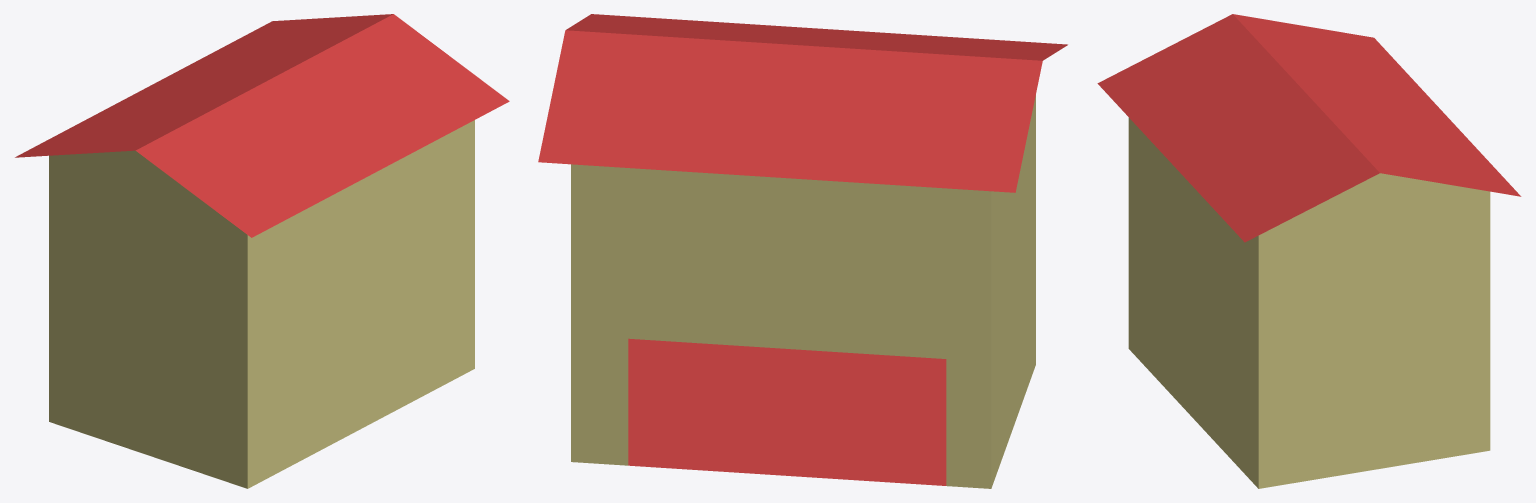
3 renders of one model, left to right at view 1: azimuth 30°, elevation 25°; view 2: azimuth 150°, elevation 25°; view 3: azimuth 270°, elevation 25°, orthographic. The views are drawn at different scales.
Size of the model in its own units: 15.02 by 13.13 by 10.48.
